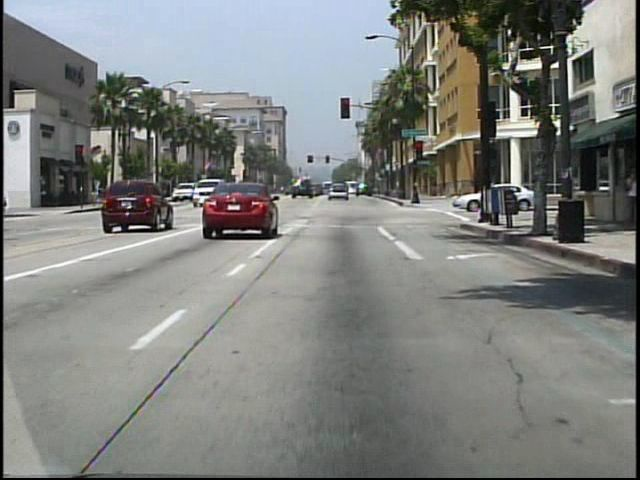person: (621, 165, 637, 228)
